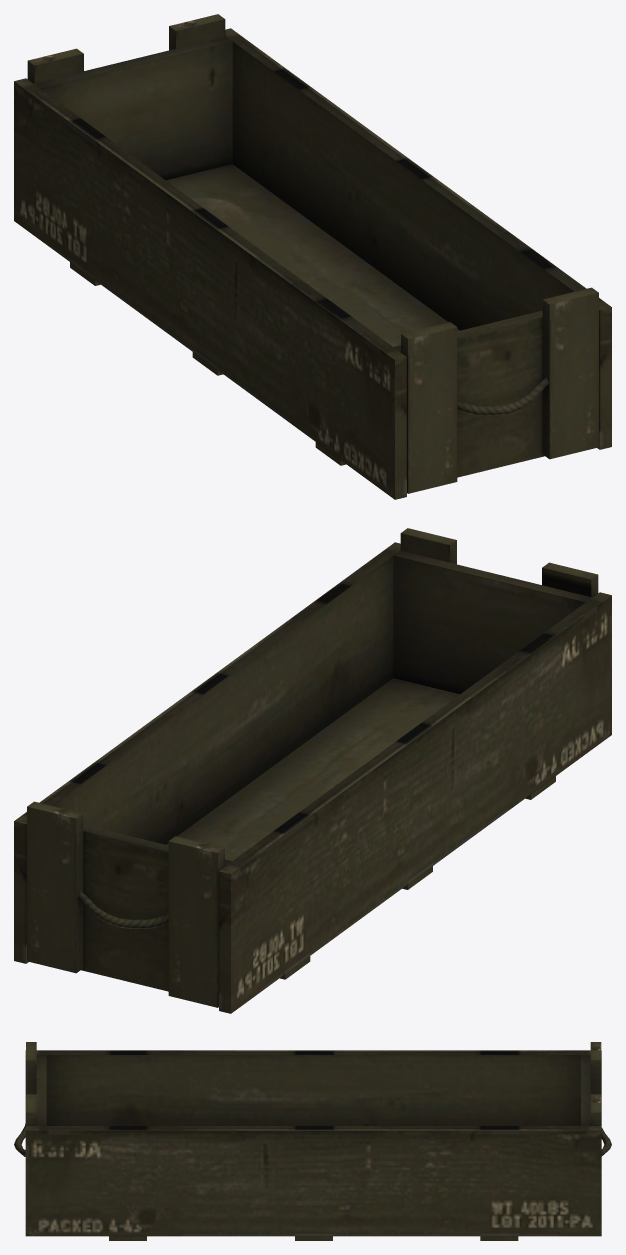
The model's file is supply_crate02_gib1.glb.
The picture shows the model from 3 angles, top to bottom: view 1: azimuth 30°, elevation 25°; view 2: azimuth 150°, elevation 25°; view 3: azimuth 270°, elevation 25°; orthographic projection. The views are drawn at different scales.
Visible parts, largest first — view 1: supply_crate02_gib1; view 2: supply_crate02_gib1; view 3: supply_crate02_gib1.
Part boxes in pixels (x1,y1,x2,y2): supply_crate02_gib1: (14, 14, 611, 499); supply_crate02_gib1: (14, 528, 611, 1013); supply_crate02_gib1: (14, 1042, 611, 1240).
Bounding box in the file's own units: 0.3216 × 0.232 × 1.02.
1 material, 1 textured.
